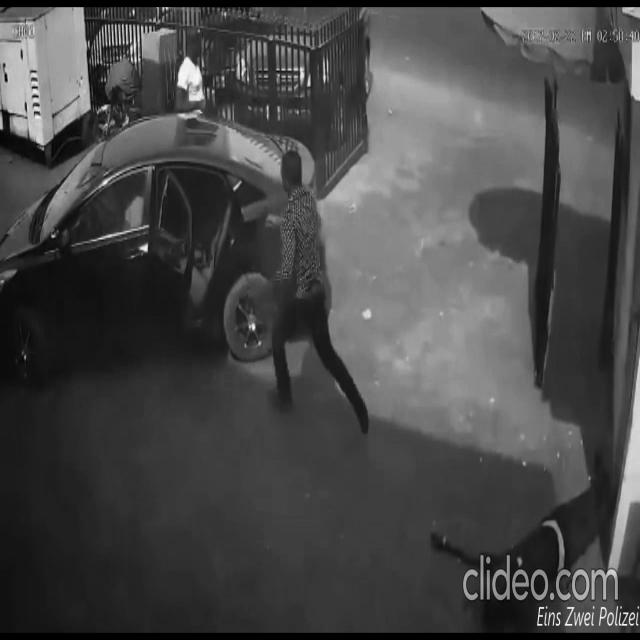gun: (255, 267, 282, 313)
person: (428, 446, 616, 634), (170, 23, 210, 115)
person with a gun: (256, 147, 374, 436)
